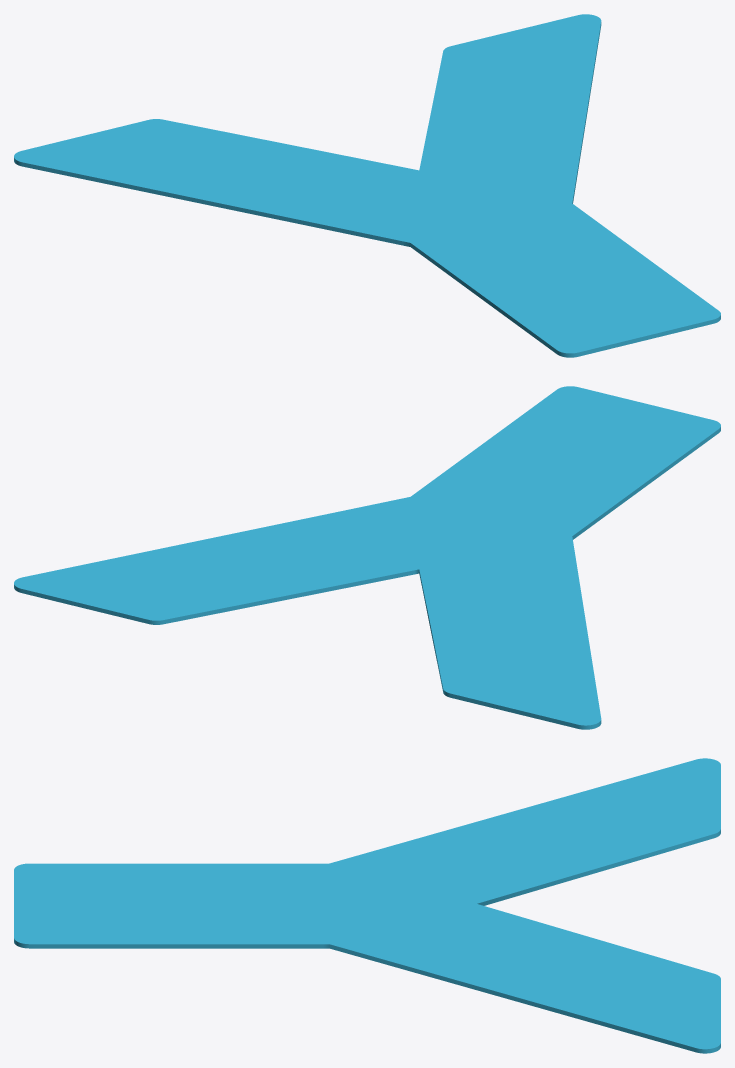
The model's file is emoji_u1f1fe.glb.
The picture shows the model from 3 angles, top to bottom: view 1: azimuth 30°, elevation 25°; view 2: azimuth 150°, elevation 25°; view 3: azimuth 270°, elevation 25°; orthographic projection. The views are drawn at different scales.
Visible parts, largest first — view 1: emoji_u1f1fe; view 2: emoji_u1f1fe; view 3: emoji_u1f1fe.
Boxes of the visible parts, x1,y1,x2,y2 form: emoji_u1f1fe: (14, 14, 720, 357); emoji_u1f1fe: (14, 386, 720, 729); emoji_u1f1fe: (14, 758, 720, 1053).
Bounding box in the file's own units: 0.0289 × 0.0002 × 0.0297.
